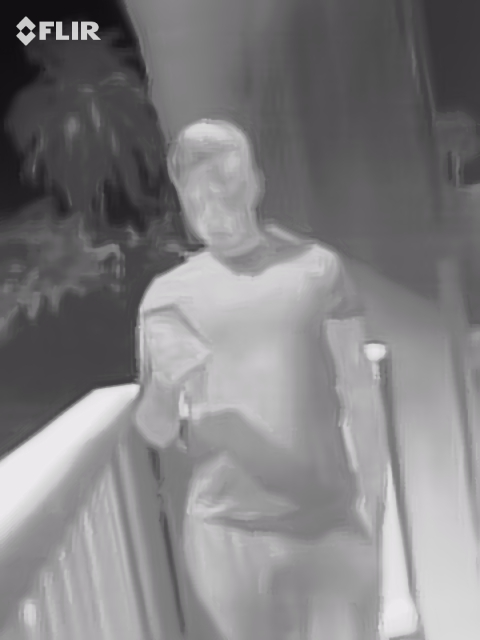head: (167, 124, 262, 247)
